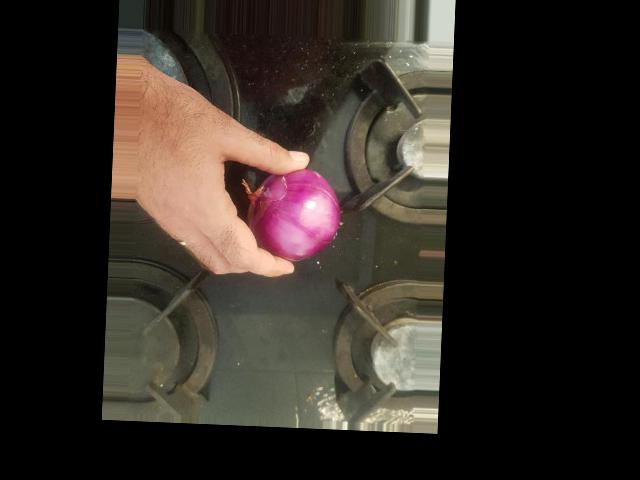onion: (253, 169, 334, 260)
